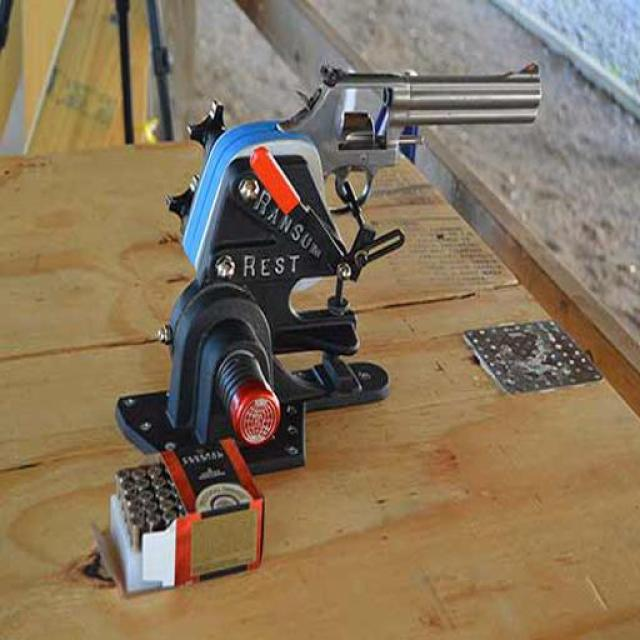pistol: (270, 55, 544, 215)
